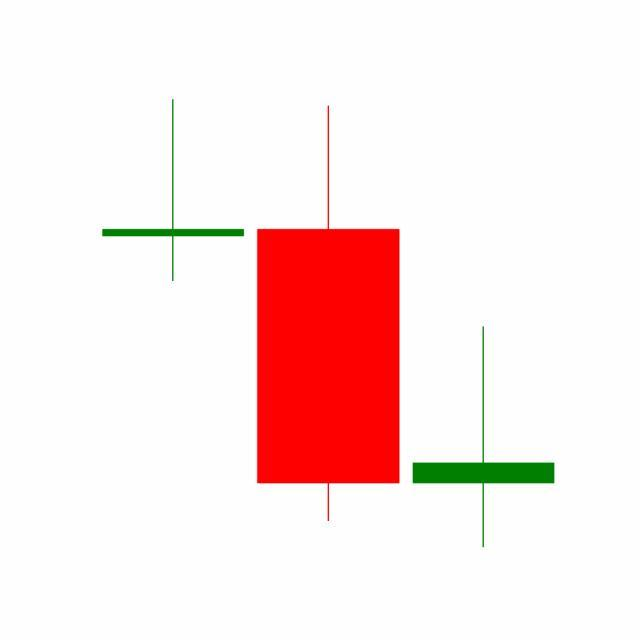Spinning Top: (406, 324, 562, 550)
